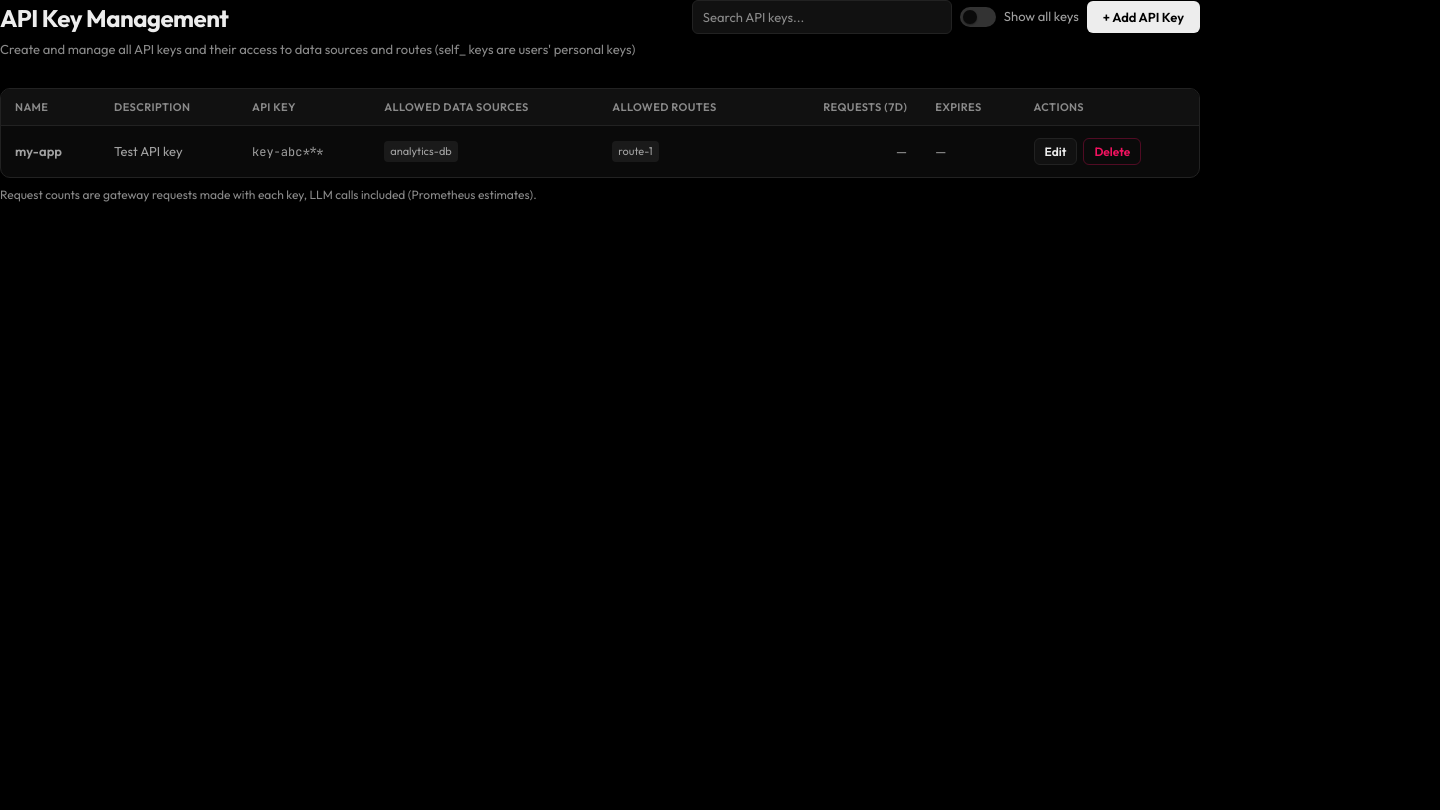
it: ApiKeys › renders structured checkbox rows in edit modal
expect the text "my-app" is shown: met, box [1,126,100,177]
Click the button with aria-label "Edit API key my-app": click(1055, 152) [1034,138,1077,165]
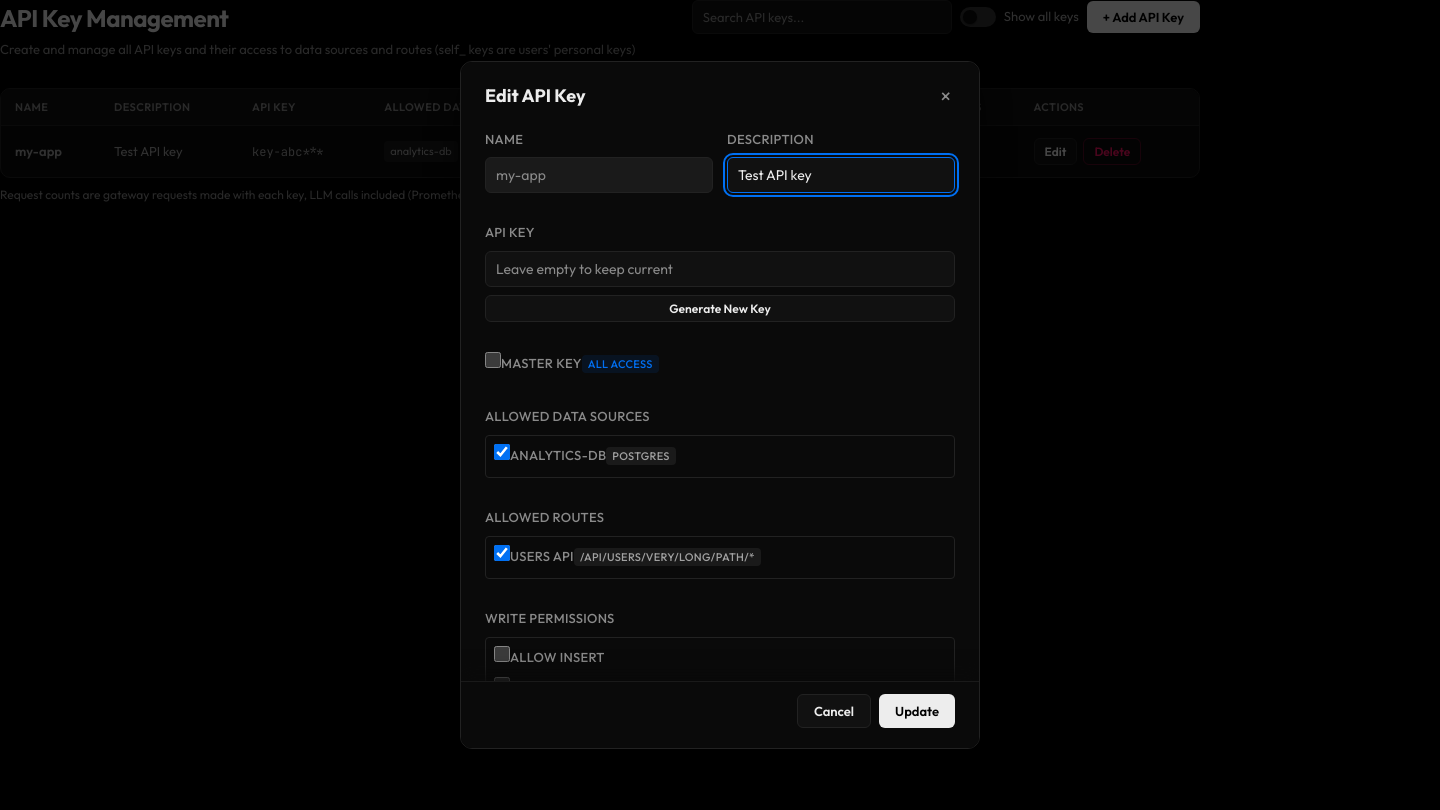
expect the checkbox labelled "analytics-db" is checked: met, box [494,444,510,460]
expect the checkbox labelled "Users API/api/users/very/long/path/*" is checked: met, box [494,545,510,561]
